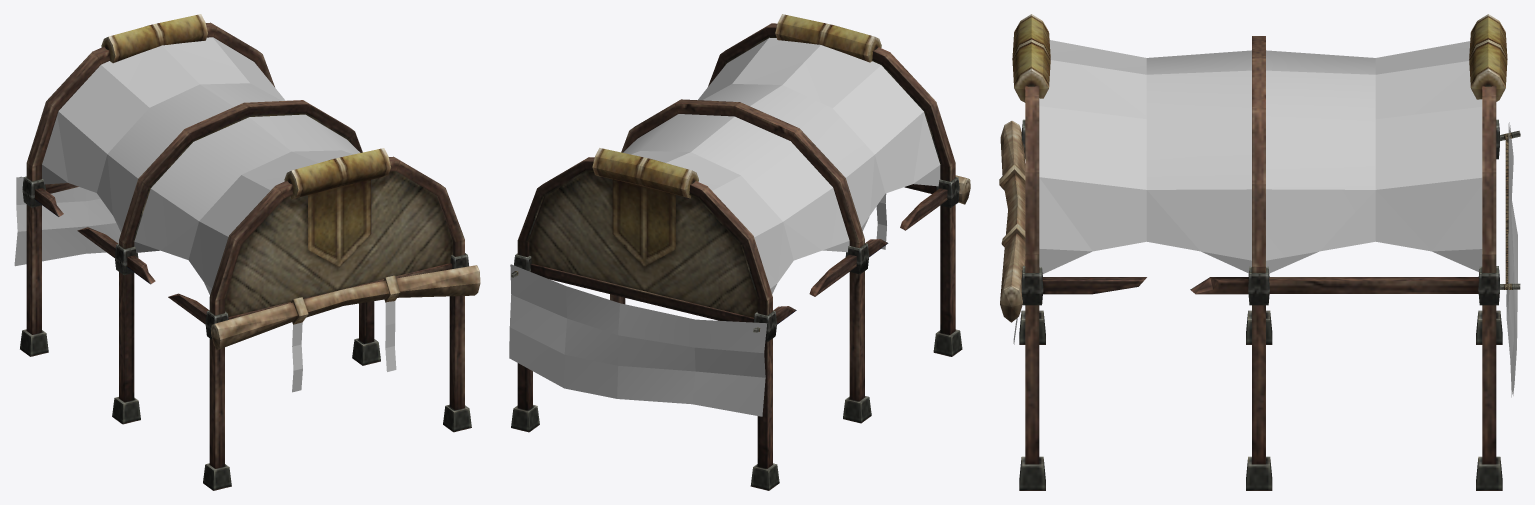
The picture shows the model from 3 angles, left to right: view 1: azimuth 30°, elevation 25°; view 2: azimuth 150°, elevation 25°; view 3: azimuth 270°, elevation 25°; orthographic projection. The views are drawn at different scales.
Visible parts, largest first — view 1: object113; view 2: object113; view 3: object113.
Boxes of the visible parts, left/top/right/bottom form: object113: left=14, top=14, right=480, bottom=490; object113: left=509, top=14, right=970, bottom=490; object113: left=999, top=14, right=1520, bottom=490.
Bounding box in the file's own units: 479 × 512 × 651.
